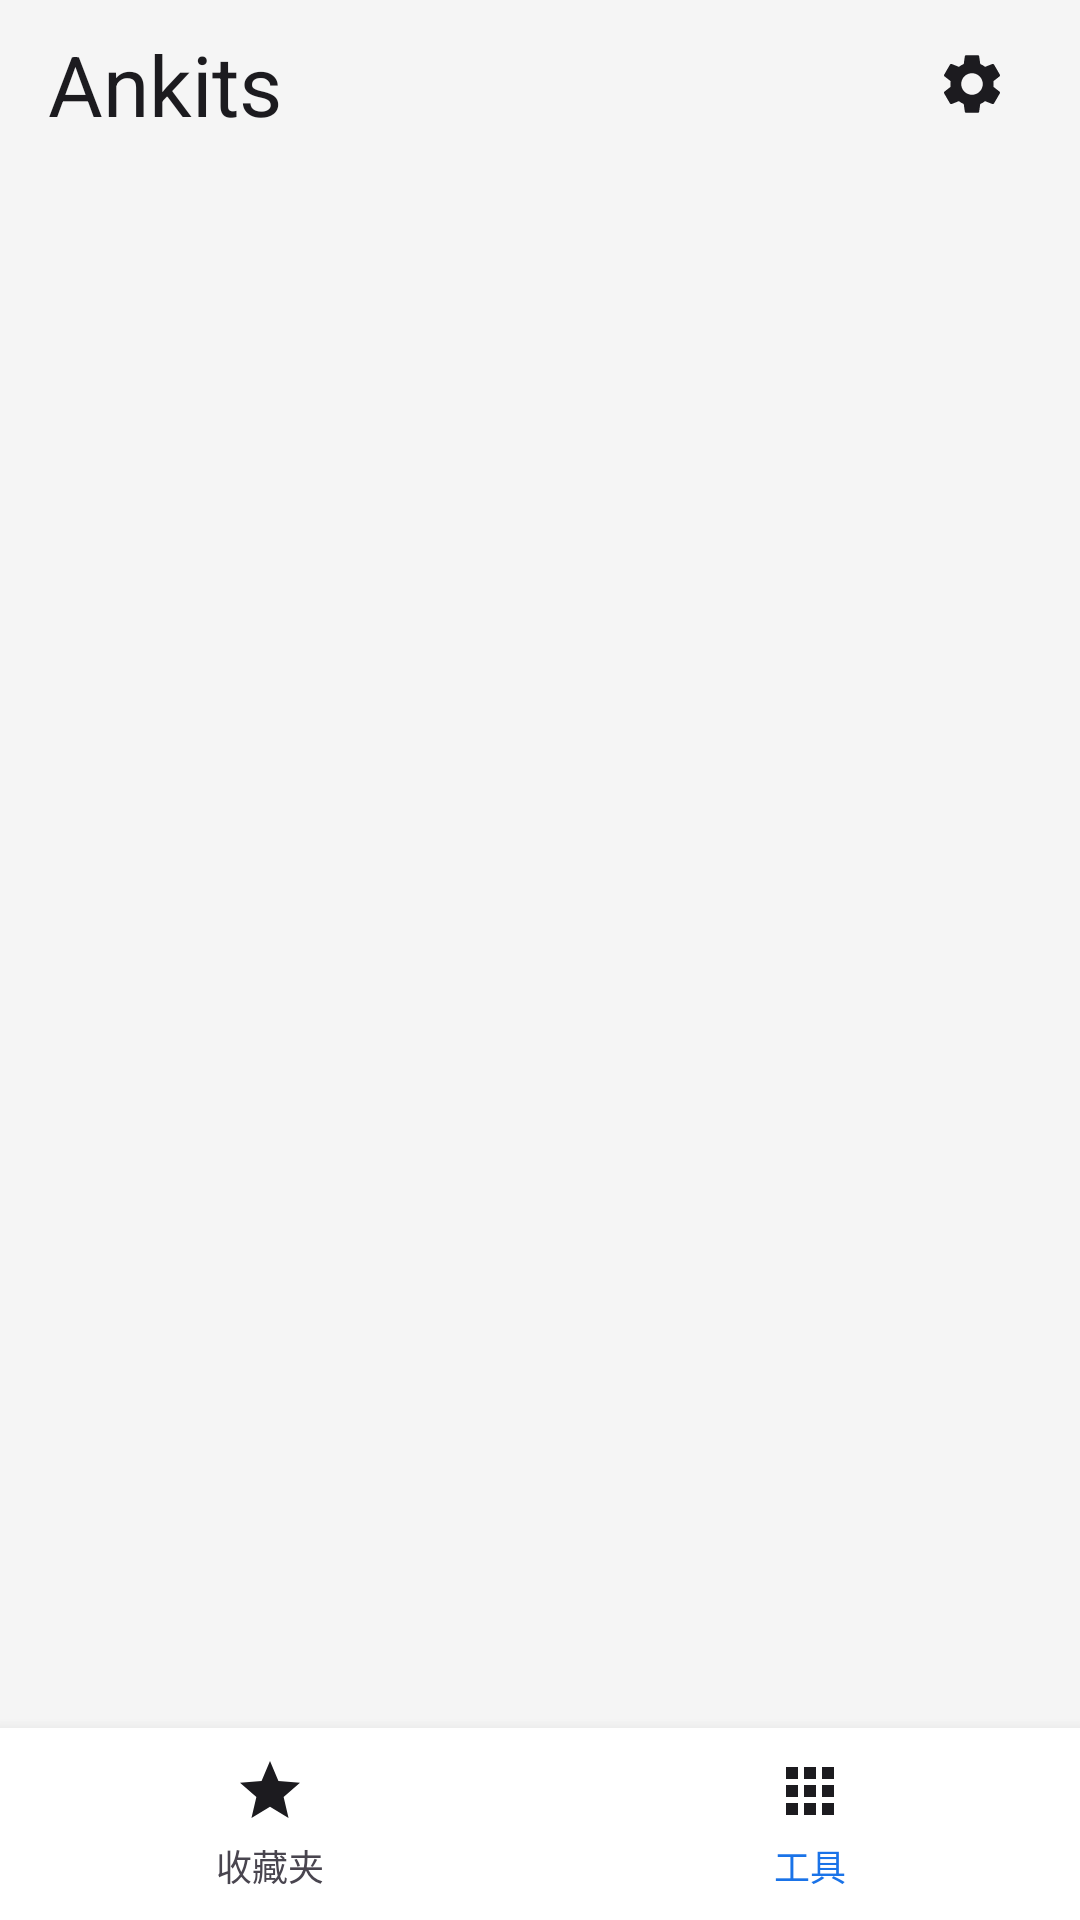

Icons on this 1080 x 1920 Android screen, each with the point to tap as point (x, y):
设置: point (972, 84)
